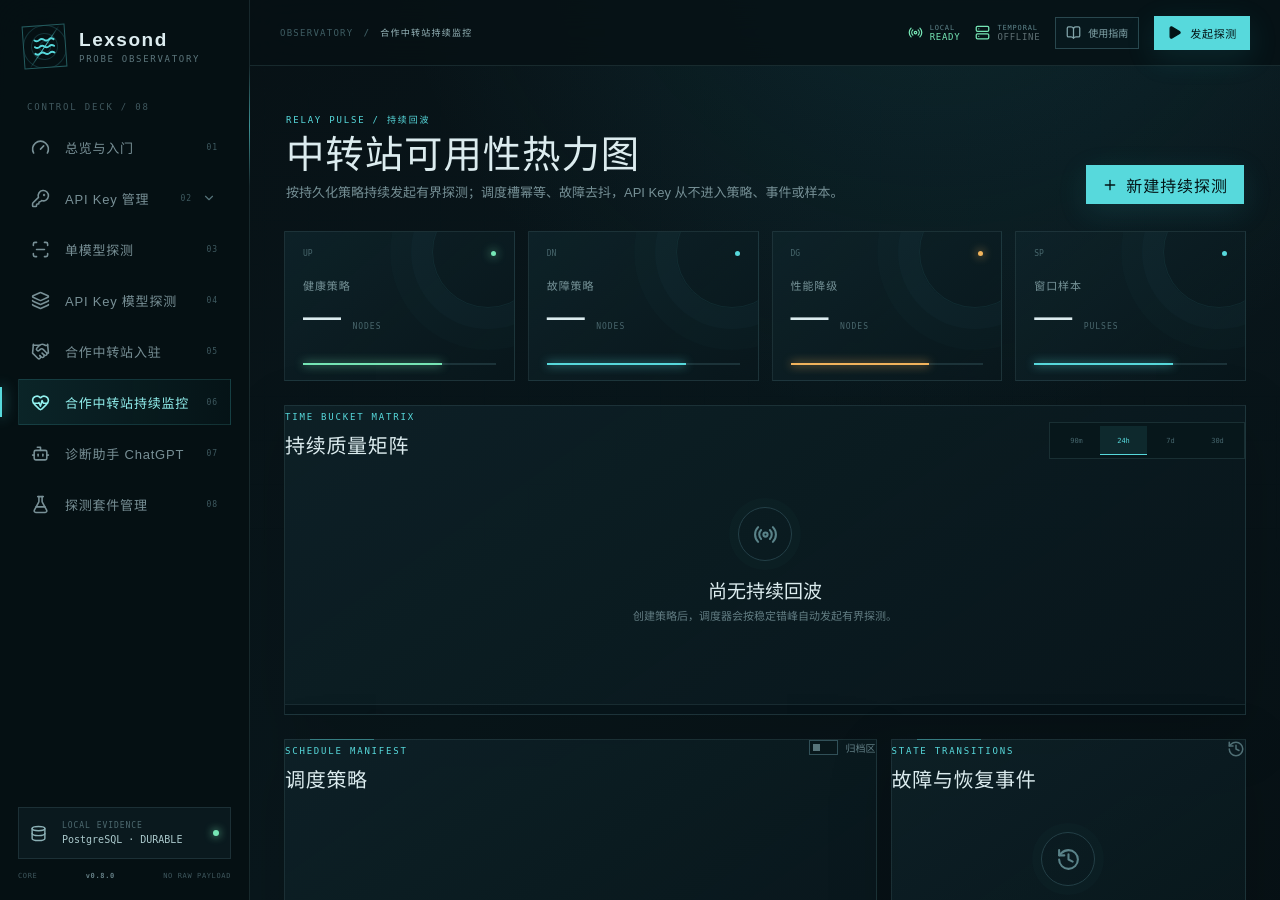
Test: observatory console › renders the continuous monitoring matrix without any API key field
Expected: the heading "中转站可用性热力图" is shown, [286,133,640,176]
Click the button "新建持续探测": point(1165, 185) [1086,165,1244,204]
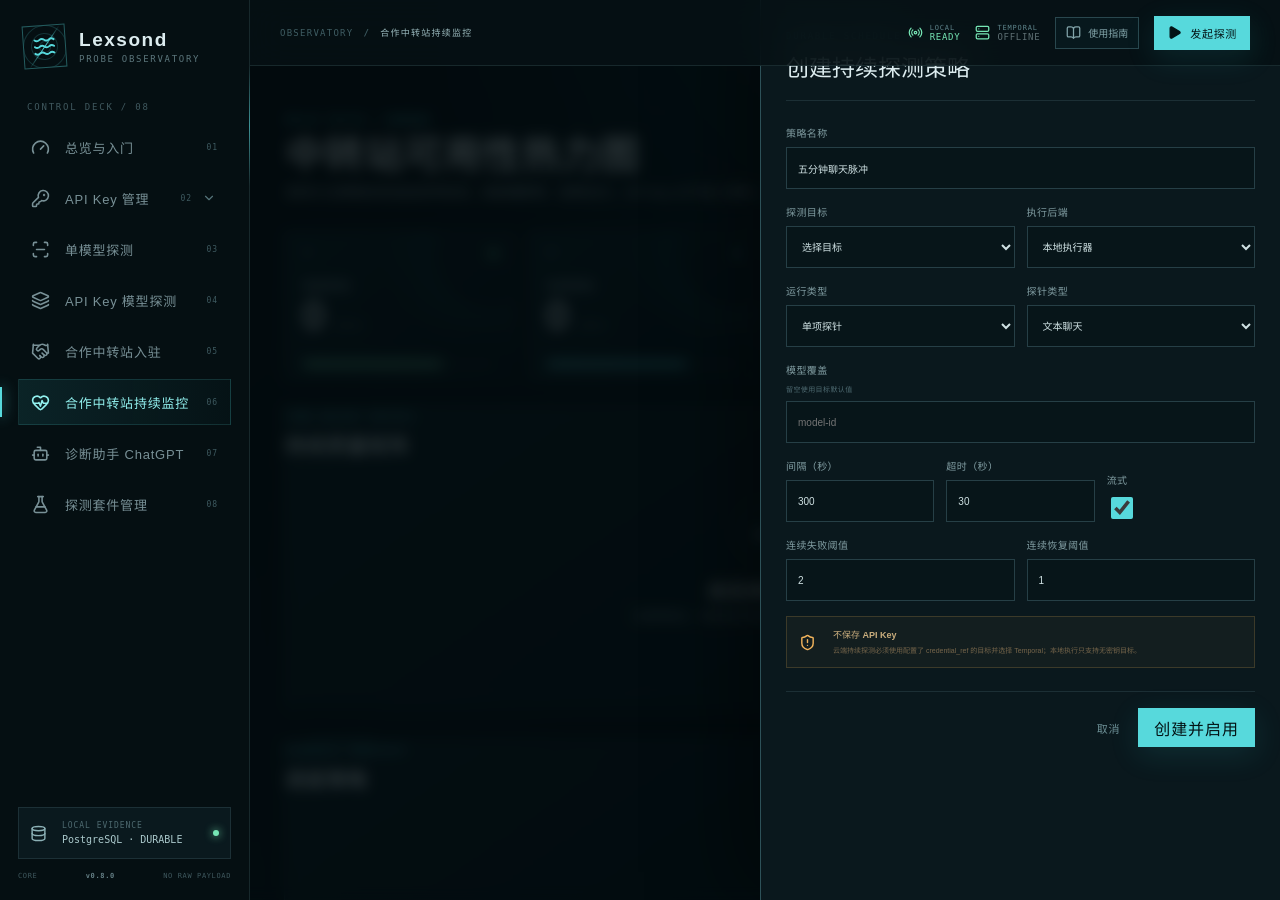
Result: the text "不保存 API Key" is shown at [833,630,896,640]
Select "Cloud monitor target" in the dropdown labelled "探测目标": point(900, 247) [786,226,1014,268]
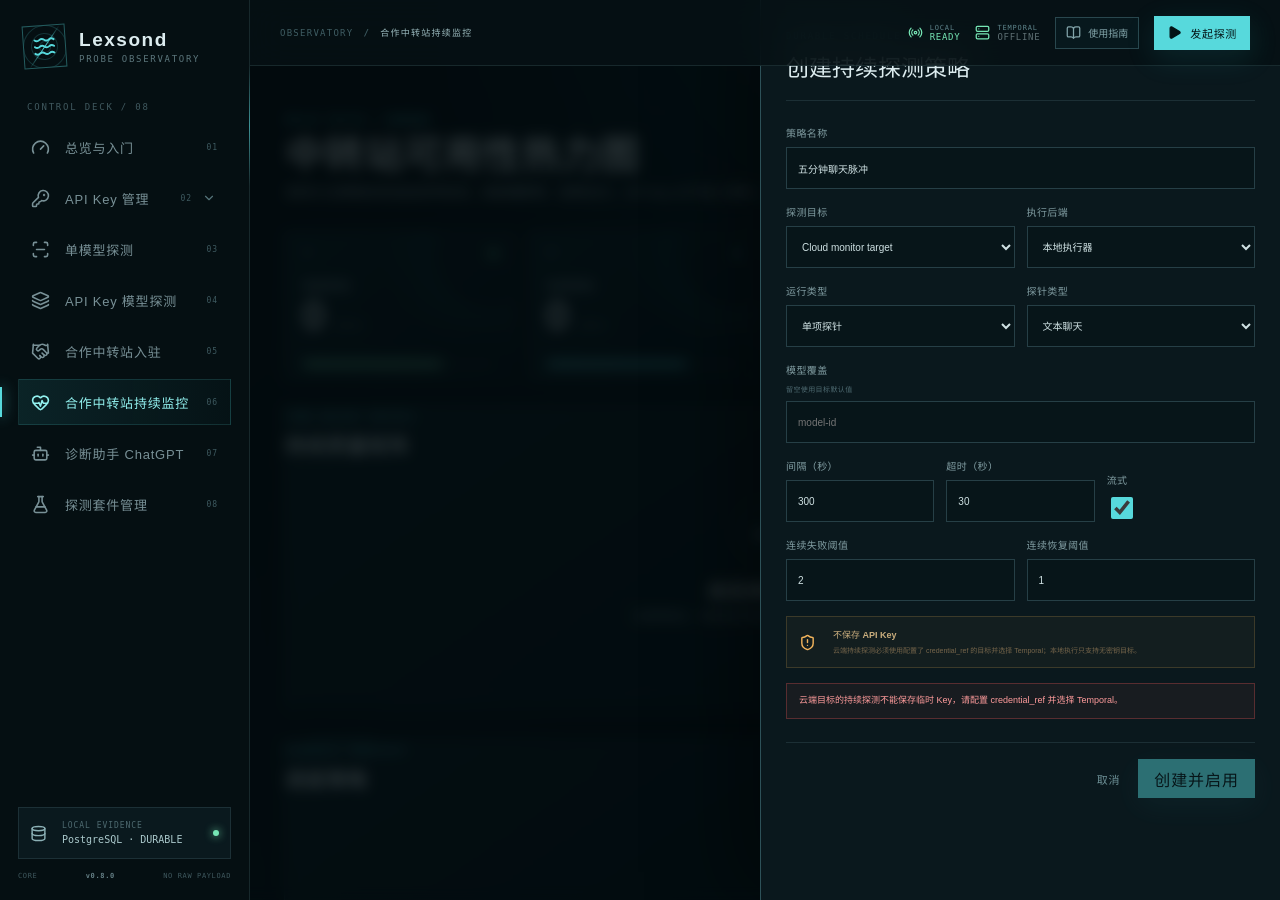
Result: the message shows "云端目标" at [799,695,1123,705]
Result: the button "创建并启用" is disabled at [1138,759,1255,798]
